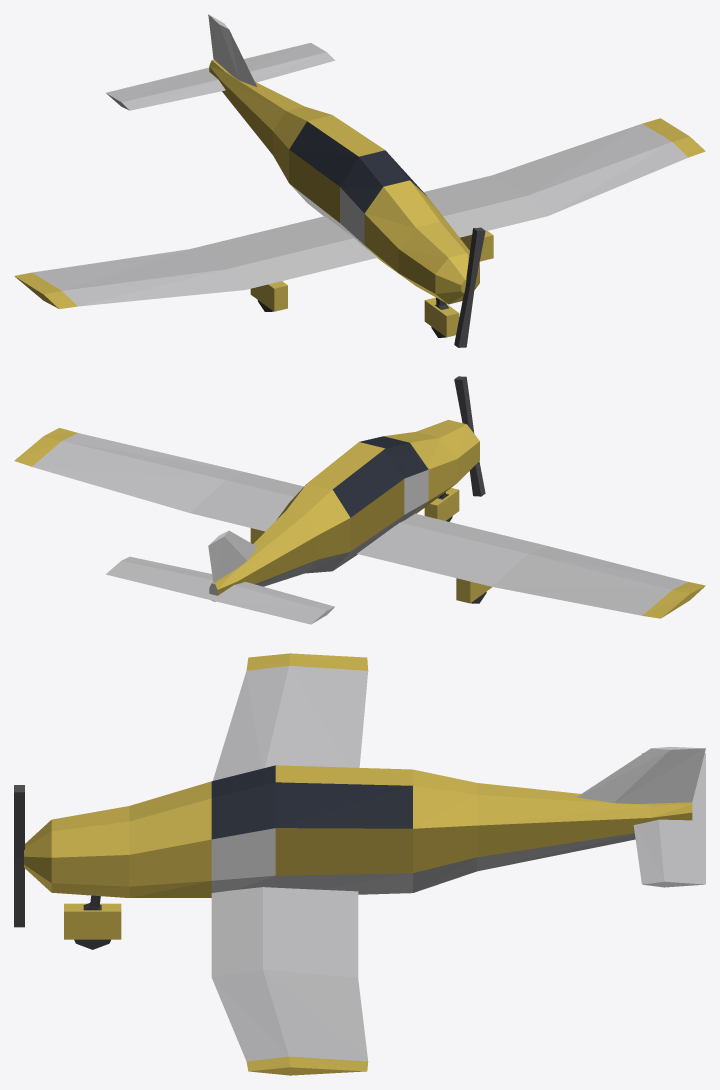
Rendered from avion_piper.glb.
3 renders of one model, top to bottom at view 1: azimuth 30°, elevation 25°; view 2: azimuth 150°, elevation 25°; view 3: azimuth 270°, elevation 25°, orthographic. The views are drawn at different scales.
Visible parts, largest first — view 1: avion_piper; view 2: avion_piper; view 3: avion_piper.
Boxes of the visible parts, bbox=[...] form: avion_piper: bbox=[14, 14, 705, 347]; avion_piper: bbox=[14, 376, 705, 624]; avion_piper: bbox=[14, 653, 705, 1075].
Bounding box in the file's own units: 10.7 × 2.4 × 7.56.
